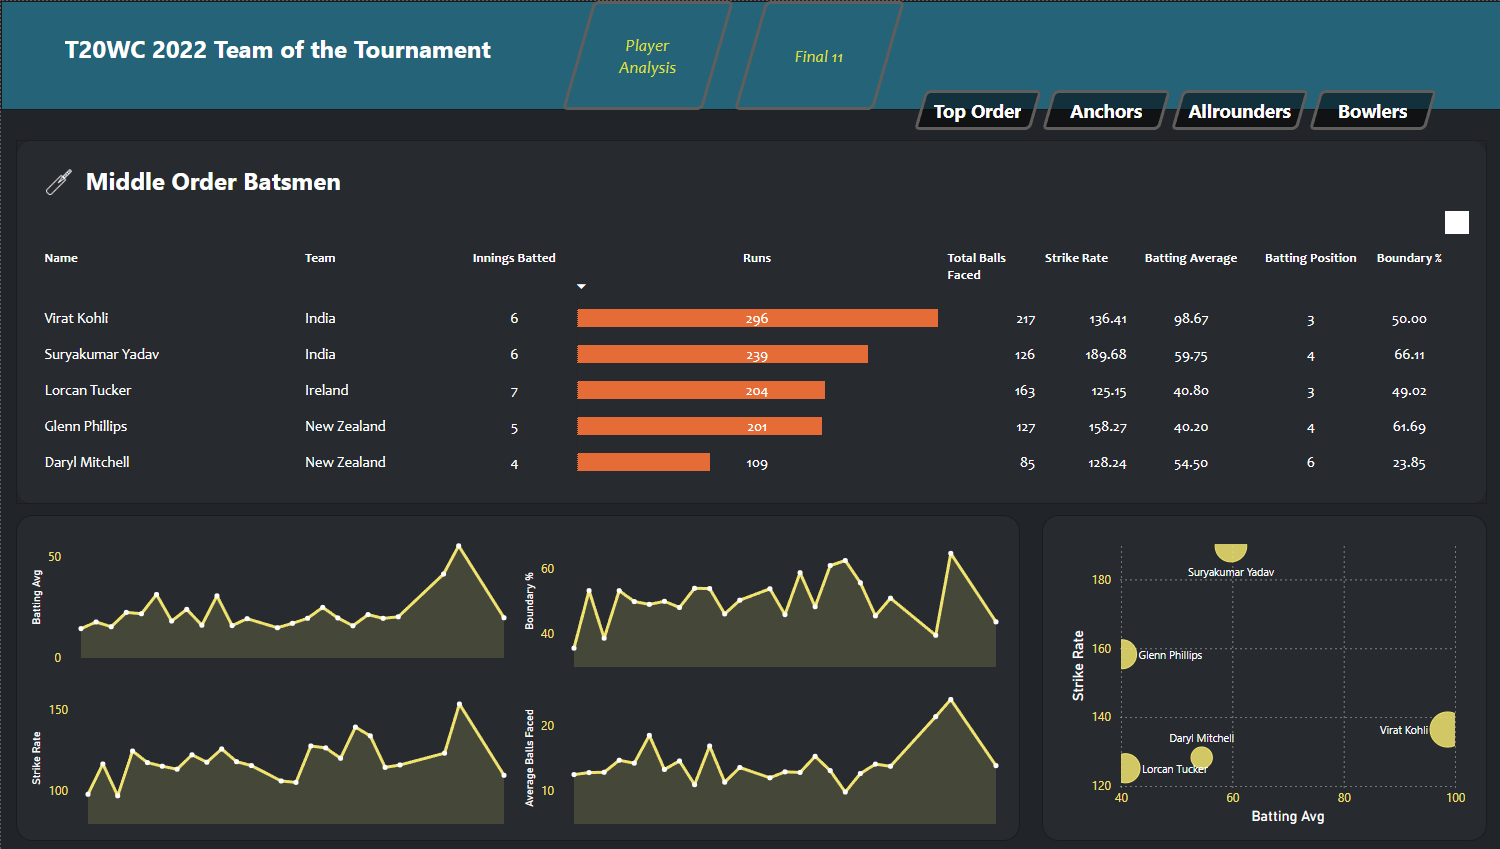

Layout of this report page (visuals, bound fields, positions):
{"tool":"powerbi","page":{"name":"Middle Order Batsmen","canvas":[1500,850],"ordinal":1},"visuals":[{"type":"shape","box":[15,138.8,1471.2,363.8],"z":0},{"type":"lineChart","fields":{"Y":["Key_Measures.Batting Avg"],"Category":["match_summary.matchDate.Variation.Date Hierarchy.Year","match_summary.matchDate.Variation.Date Hierarchy.Quarter","match_summary.matchDate.Variation.Date Hierarchy.Month","match_summary.matchDate.Variation.Date Hierarchy.Day"]},"box":[25,521.2,485,150],"z":1000},{"type":"shape","box":[15,513.8,1003.8,326.2],"z":2000},{"type":"areaChart","fields":{"Category":["match_summary.matchDate.Variation.Date Hierarchy.Year","match_summary.matchDate.Variation.Date Hierarchy.Quarter","match_summary.matchDate.Variation.Date Hierarchy.Month","match_summary.matchDate.Variation.Date Hierarchy.Day"],"Y":["Key_Measures.Batting Avg"]},"box":[25,521.2,492.5,150],"z":3000},{"type":"shape","box":[1041.2,513.8,445,326.2],"z":4000},{"type":"shape","box":[0,0,1500,108.8],"z":5000},{"type":"image","box":[36.2,162.5,43.8,36.2],"z":6000},{"type":"textbox","box":[80,157.5,286.2,47.5],"z":7000},{"type":"actionButton","box":[912.5,88.8,128.8,40],"z":8000},{"type":"actionButton","box":[1041.2,88.8,128.8,40],"z":9000},{"type":"actionButton","box":[1170,88.8,137.5,40],"z":10000},{"type":"actionButton","box":[1307.5,88.8,128.8,40],"z":11000},{"type":"tableEx","fields":{"Values":["players_info.Name","players_info.Team","Key_Measures.Total Matches","Key_Measures.Total Runs","Key_Measures.Total Balls Faced","Key_Measures.Strike Rate","Key_Measures.Bat Avg","Key_Measures.Batting Position","Key_Measures.Boundary %"]},"box":[32.5,233.8,1436.2,268.8],"z":12000},{"type":"areaChart","fields":{"Category":["match_summary.matchDate.Variation.Date Hierarchy.Year","match_summary.matchDate.Variation.Date Hierarchy.Quarter","match_summary.matchDate.Variation.Date Hierarchy.Month","match_summary.matchDate.Variation.Date Hierarchy.Day"],"Y":["Key_Measures.Strike Rate"]},"box":[25,677.5,492.5,150],"z":13000},{"type":"areaChart","fields":{"Category":["match_summary.matchDate.Variation.Date Hierarchy.Year","match_summary.matchDate.Variation.Date Hierarchy.Quarter","match_summary.matchDate.Variation.Date Hierarchy.Month","match_summary.matchDate.Variation.Date Hierarchy.Day"],"Y":["Key_Measures.Boundary %"]},"box":[517.5,521.2,492.5,150],"z":14000},{"type":"areaChart","fields":{"Category":["match_summary.matchDate.Variation.Date Hierarchy.Year","match_summary.matchDate.Variation.Date Hierarchy.Quarter","match_summary.matchDate.Variation.Date Hierarchy.Month","match_summary.matchDate.Variation.Date Hierarchy.Day"],"Y":["Key_Measures.Average Balls Faced"]},"box":[517.5,677.5,492.5,150],"z":15000},{"type":"scatterChart","fields":{"X":["Key_Measures.Batting Avg"],"Y":["Key_Measures.Strike Rate"],"Category":["players_info.Name"],"Size":["Key_Measures.Total Runs"]},"box":[1063.8,530,405,297.5],"z":16000},{"type":"actionButton","box":[561.2,0,171.2,108.8],"z":17000},{"type":"actionButton","box":[732.5,0,171.2,108.8],"z":18000},{"type":"textbox","box":[58.8,26.2,458.8,62.5],"z":18001}]}

Visuals, with their boxes in screenshot pixels (x1, y1, x2, y2), scaled from the page's 1500x850 canvas onto the 1500x849 screenshot:
shape: <region>15, 139, 1486, 502</region>
lineChart - Key_Measures.Batting Avg x match_summary.matchDate.Variation.Date Hierarchy.Year: <region>25, 521, 510, 670</region>
shape: <region>15, 513, 1019, 839</region>
areaChart - match_summary.matchDate.Variation.Date Hierarchy.Year x match_summary.matchDate.Variation.Date Hierarchy.Quarter: <region>25, 521, 518, 670</region>
shape: <region>1041, 513, 1486, 839</region>
shape: <region>0, 0, 1499, 109</region>
image: <region>36, 162, 80, 198</region>
textbox: <region>80, 157, 366, 205</region>
actionButton: <region>912, 89, 1041, 129</region>
actionButton: <region>1041, 89, 1170, 129</region>
actionButton: <region>1170, 89, 1308, 129</region>
actionButton: <region>1308, 89, 1436, 129</region>
tableEx - players_info.Name x players_info.Team: <region>32, 234, 1469, 502</region>
areaChart - match_summary.matchDate.Variation.Date Hierarchy.Year x match_summary.matchDate.Variation.Date Hierarchy.Quarter: <region>25, 677, 518, 827</region>
areaChart - match_summary.matchDate.Variation.Date Hierarchy.Year x match_summary.matchDate.Variation.Date Hierarchy.Quarter: <region>518, 521, 1010, 670</region>
areaChart - match_summary.matchDate.Variation.Date Hierarchy.Year x match_summary.matchDate.Variation.Date Hierarchy.Quarter: <region>518, 677, 1010, 827</region>
scatterChart - Key_Measures.Batting Avg x Key_Measures.Strike Rate: <region>1064, 529, 1469, 827</region>
actionButton: <region>561, 0, 732, 109</region>
actionButton: <region>732, 0, 904, 109</region>
textbox: <region>59, 26, 518, 89</region>
